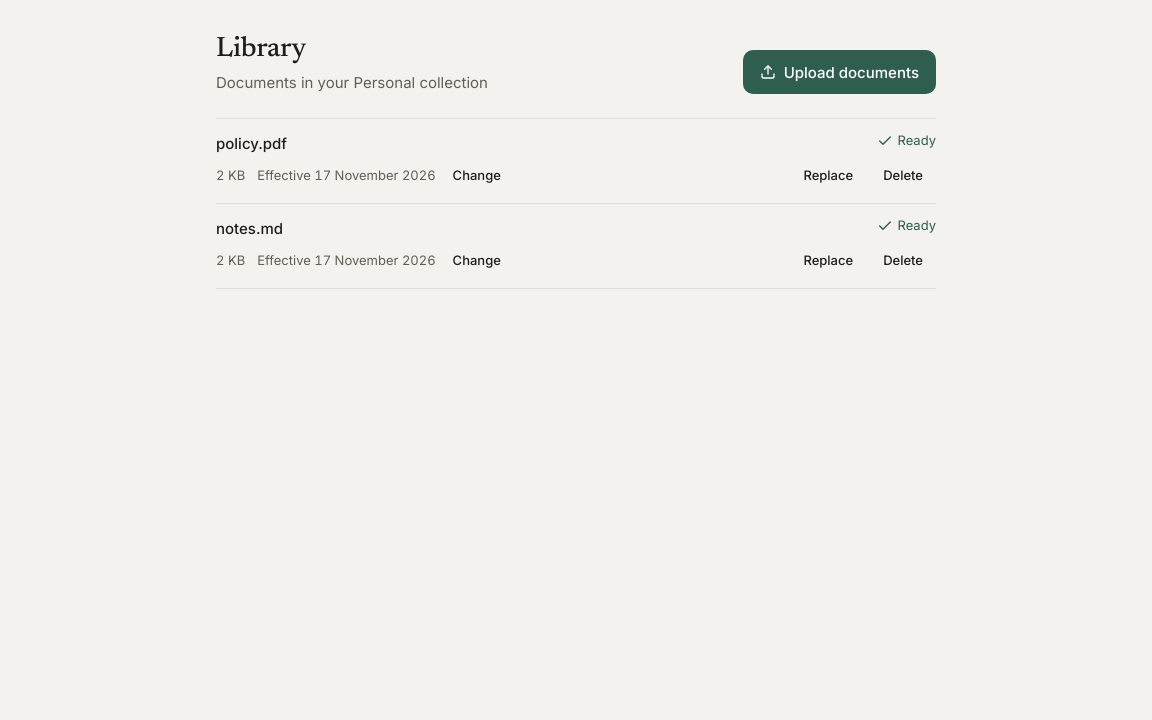
Test: Deleting a Document › asks first, naming the Document, and removes it once confirmed
What coordinates should you click on to do the following:
click the button with aria-label "Delete policy.pdf"
I would click on:
 (903, 175)
Its box is x1=870 y1=159 x2=936 y2=191.
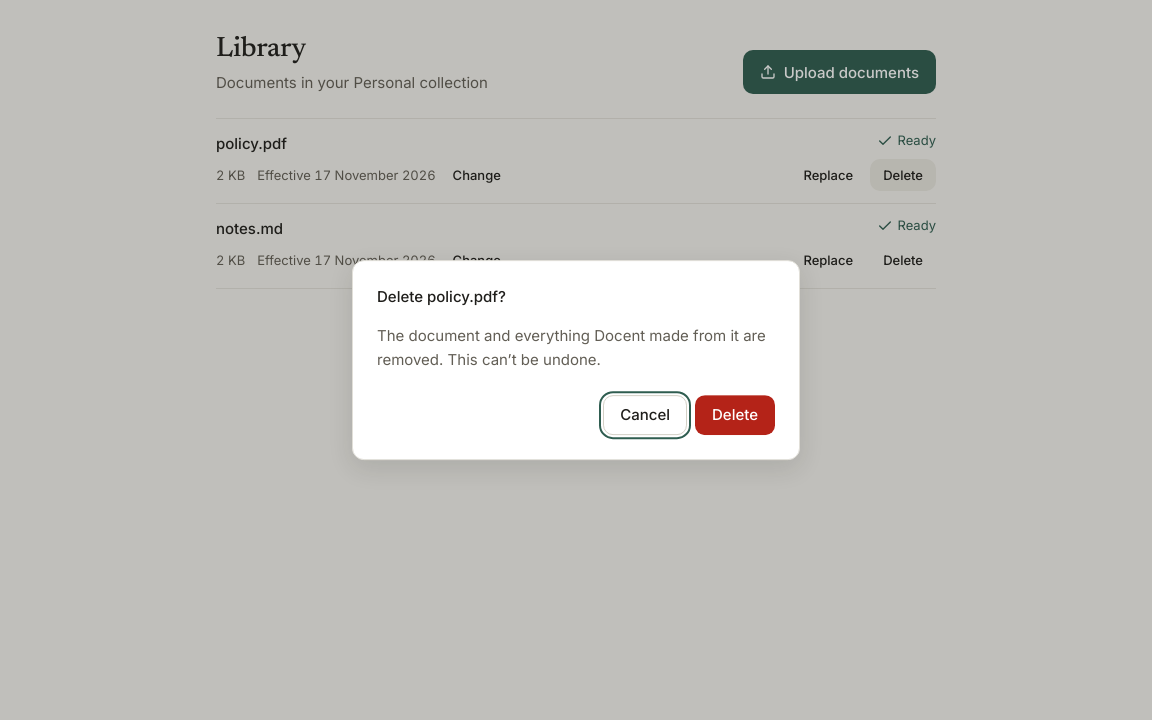
What coordinates should you click on to do the following:
click the button "Delete"
I would click on:
 (735, 415)
Its box is x1=695 y1=395 x2=775 y2=435.
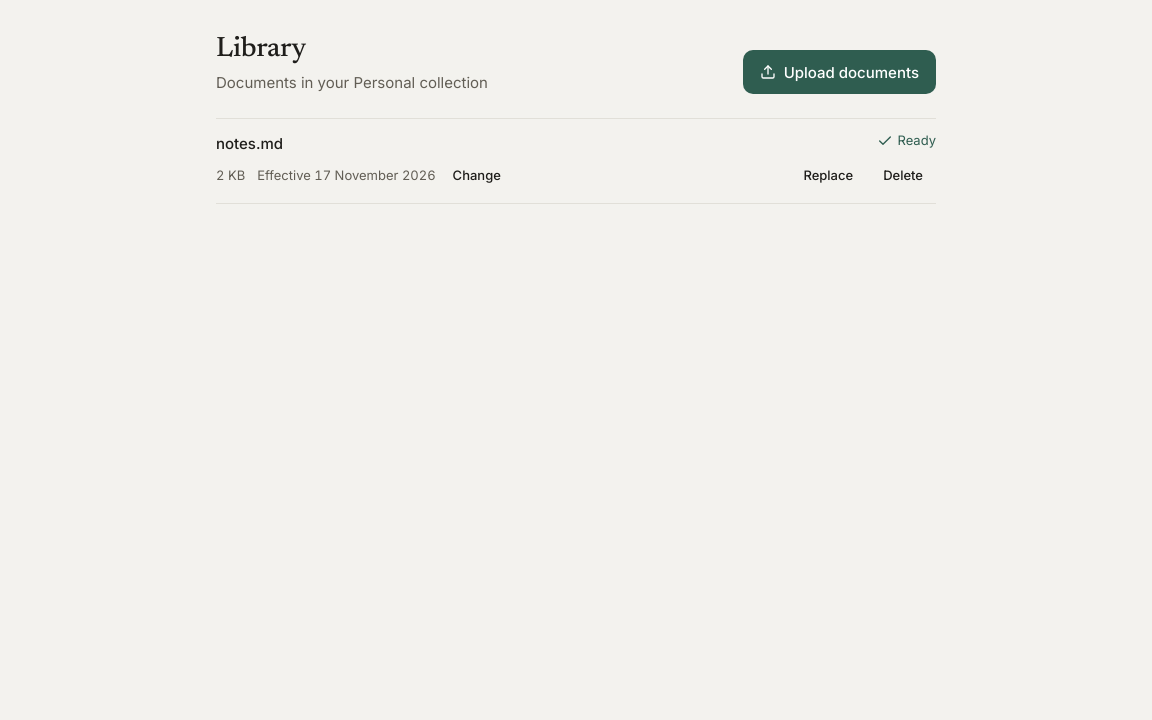
Expected: the text "notes.md" is shown, x1=216 y1=132 x2=283 y2=155
Expected: the dialog is gone
